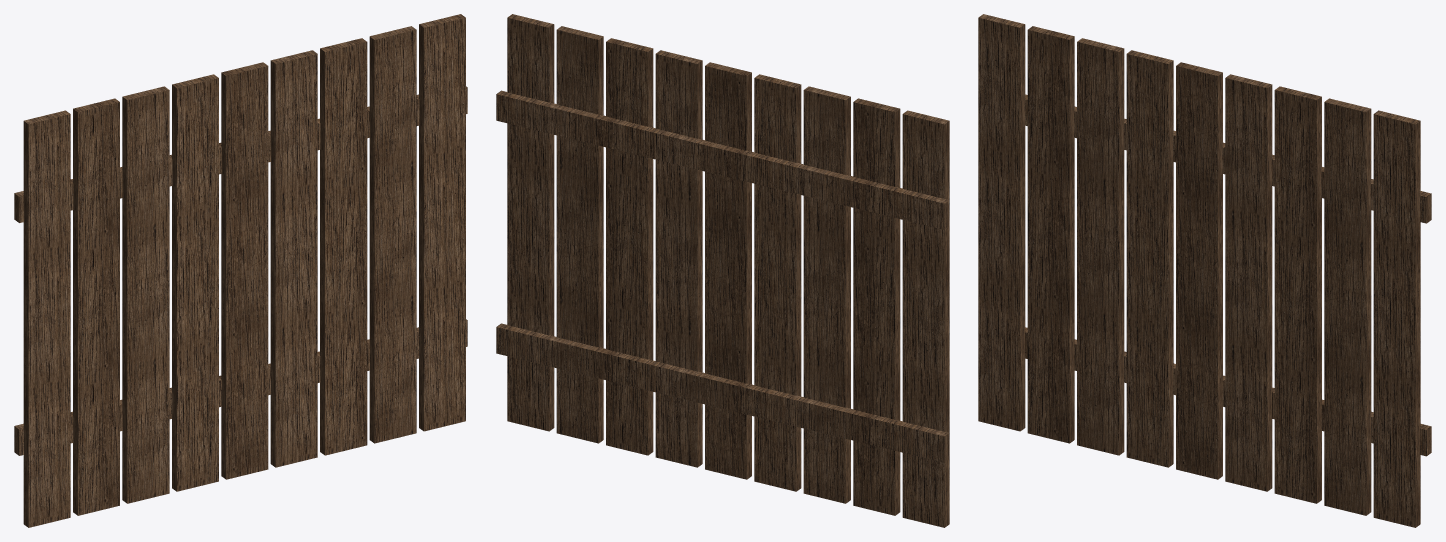
File: fence.FBX
3 views of the same model, side by side, from view 1: azimuth 30°, elevation 25°; view 2: azimuth 150°, elevation 25°; view 3: azimuth 330°, elevation 25° (orthographic).
Parts seen in each view (by area): view 1: Box063, Box065, Box067, Box068, Box066, Box061, Box069, Box062, Box064, Box070, Box071; view 2: Box061, Box067, Box063, Box066, Box068, Box069, Box064, Box062, Box065, Box071, Box070; view 3: Box067, Box069, Box064, Box062, Box063, Box061, Box066, Box068, Box065, Box070, Box071.
Boxes of the visible parts, left/top/right/bottom form: Box063: left=122, top=86, right=169, bottom=503; Box065: left=221, top=62, right=268, bottom=479; Box067: left=320, top=38, right=367, bottom=455; Box068: left=369, top=26, right=416, bottom=443; Box066: left=270, top=50, right=317, bottom=467; Box061: left=23, top=110, right=70, bottom=527; Box069: left=419, top=14, right=465, bottom=431; Box062: left=73, top=98, right=119, bottom=515; Box064: left=172, top=74, right=218, bottom=491; Box070: left=14, top=86, right=467, bottom=222; Box071: left=14, top=319, right=467, bottom=455; Box061: left=902, top=110, right=949, bottom=527; Box067: left=606, top=38, right=653, bottom=455; Box063: left=803, top=86, right=850, bottom=503; Box066: left=655, top=50, right=702, bottom=467; Box068: left=556, top=26, right=603, bottom=443; Box069: left=507, top=14, right=554, bottom=431; Box064: left=754, top=74, right=801, bottom=491; Box062: left=853, top=98, right=900, bottom=515; Box065: left=705, top=62, right=751, bottom=479; Box071: left=496, top=323, right=949, bottom=462; Box070: left=496, top=90, right=949, bottom=229; Box067: left=1274, top=86, right=1321, bottom=503; Box069: left=1373, top=110, right=1420, bottom=527; Box064: left=1126, top=50, right=1173, bottom=467; Box062: left=1027, top=26, right=1074, bottom=443; Box063: left=1077, top=38, right=1124, bottom=455; Box061: left=978, top=14, right=1025, bottom=431; Box066: left=1225, top=74, right=1272, bottom=491; Box068: left=1324, top=98, right=1371, bottom=515; Box065: left=1176, top=62, right=1222, bottom=479; Box070: left=1025, top=94, right=1431, bottom=223; Box071: left=1025, top=327, right=1431, bottom=456.
Bounding box in the file's own units: 69.41 × 59.71 × 2.6.
Materials: 1 (1 with a texture image).
